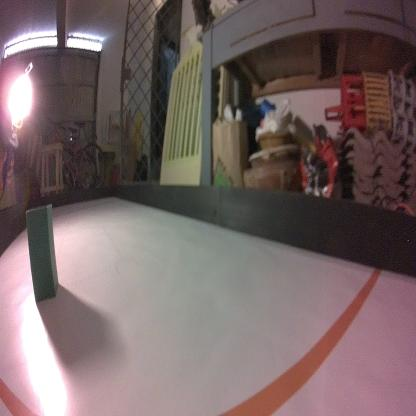green: (23, 204, 61, 304)
